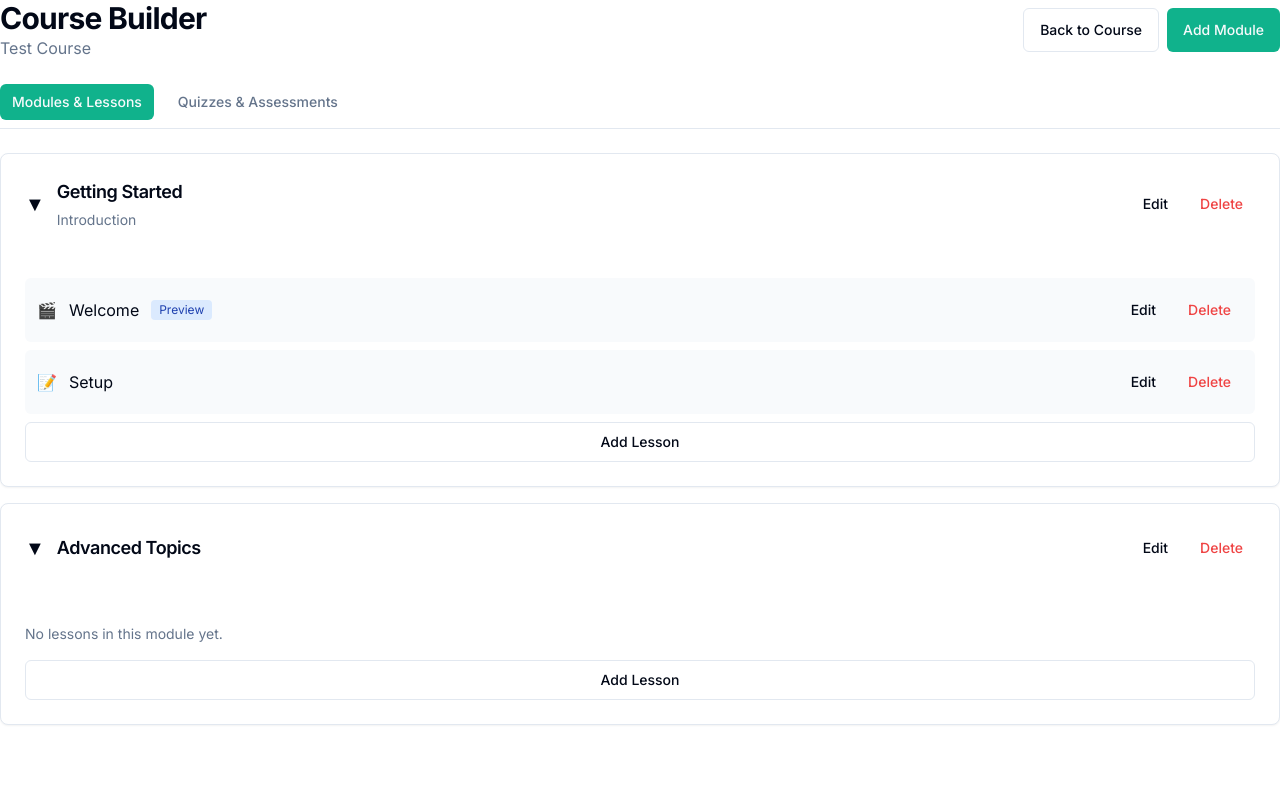
Test: CourseBuilderPage › opens add lesson modal when clicking Add Lesson
Check: the text "Test Course" is shown, box [0,38,91,58]
Click the button "Add Lesson" below "Setup" at (640, 442), box [25,422,1255,462]
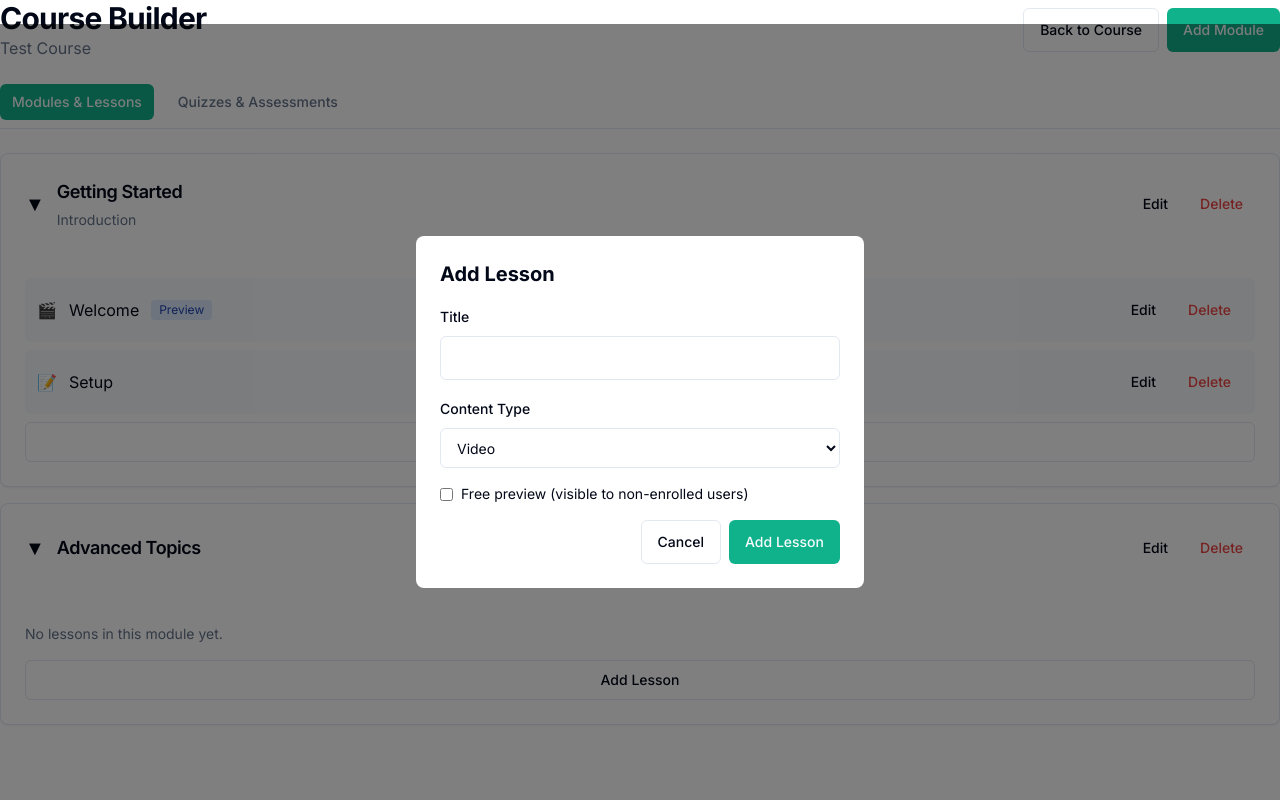
Check: the heading "Add Lesson" is shown, box [440,262,555,286]
